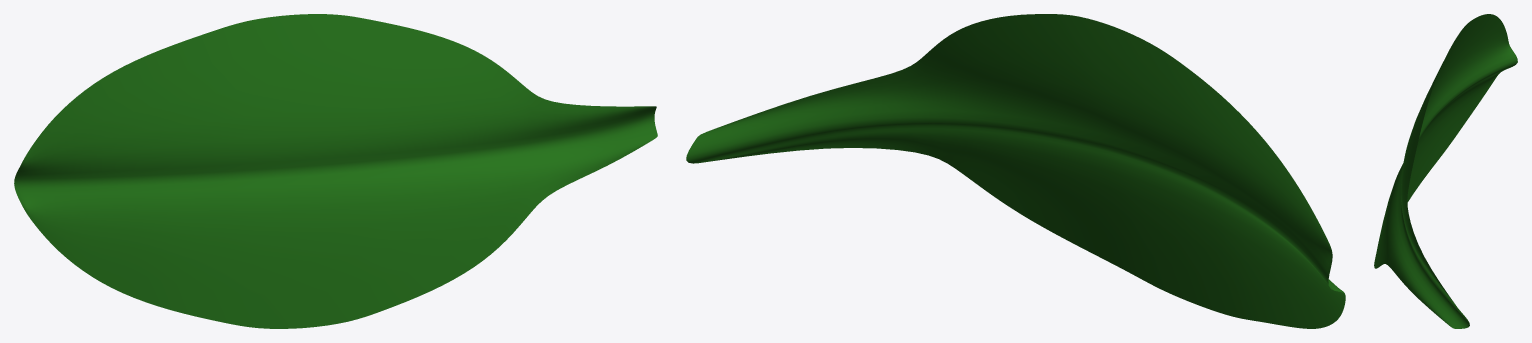
File: hoja.fbx
3 renders of one model, left to right at view 1: azimuth 30°, elevation 25°; view 2: azimuth 150°, elevation 25°; view 3: azimuth 270°, elevation 25°, orthographic. The views are drawn at different scales.
Parts seen in each view (by area): view 1: Círculo.001; view 2: Círculo.001; view 3: Círculo.001.
Part boxes in pixels (bbox=[...]): Círculo.001: bbox=[14, 14, 657, 328]; Círculo.001: bbox=[686, 14, 1345, 328]; Círculo.001: bbox=[1374, 14, 1517, 328].
Size of the model in its own units: 2.58 by 1.11 by 0.7105.
